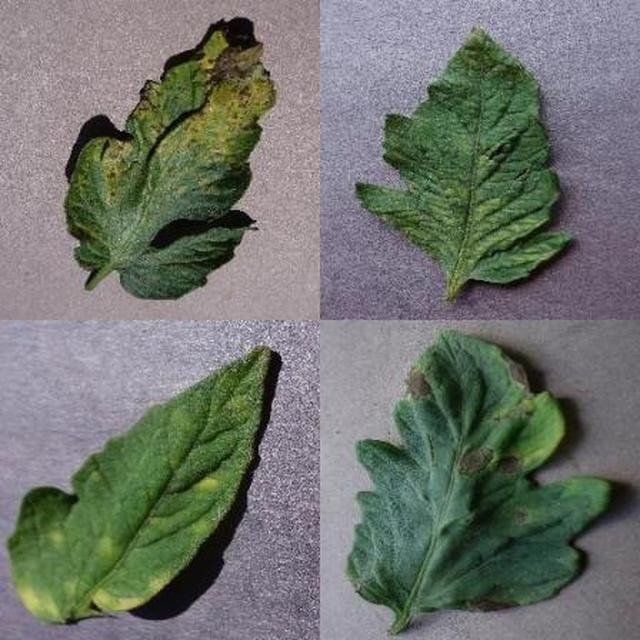Septoria Leaf: (199, 218, 640, 640)
